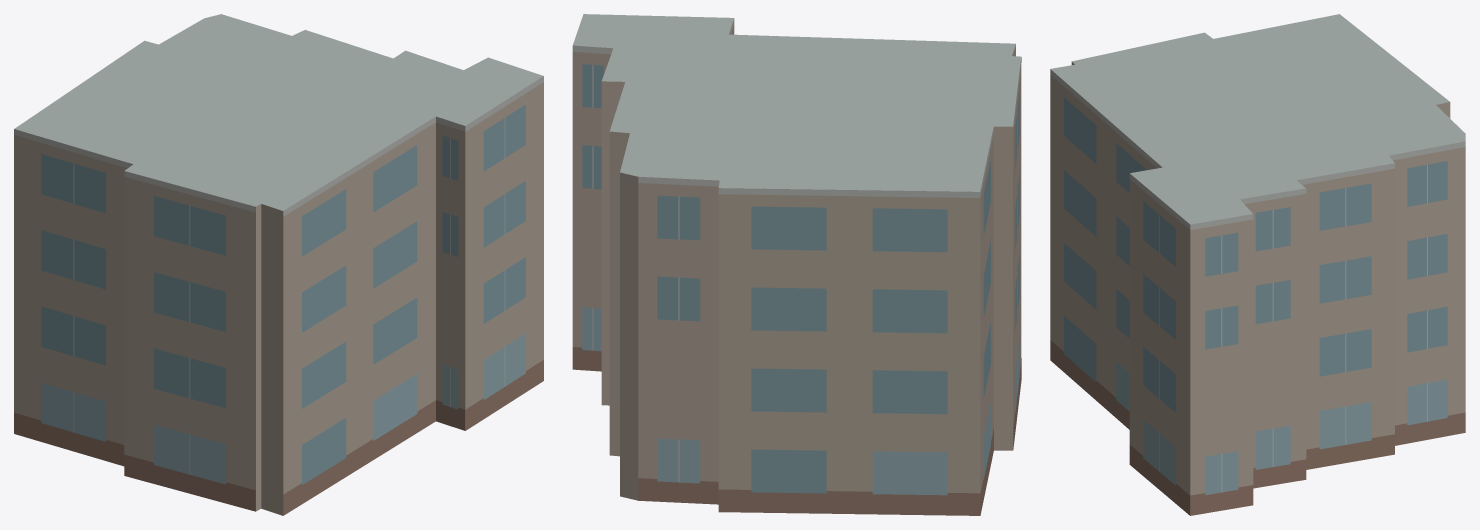
The model's file is survey-upis-32892656.glb.
The picture shows the model from 3 angles, left to right: view 1: azimuth 30°, elevation 25°; view 2: azimuth 150°, elevation 25°; view 3: azimuth 270°, elevation 25°; orthographic projection. The views are drawn at different scales.
Visible parts, largest first — view 1: survey-upis-32892656.tmp; view 2: survey-upis-32892656.tmp; view 3: survey-upis-32892656.tmp.
Boxes of the visible parts, x1,y1,x2,y2 form: survey-upis-32892656.tmp: (14,14,543,515); survey-upis-32892656.tmp: (572,14,1021,515); survey-upis-32892656.tmp: (1050,14,1465,515).
Size of the model in its own units: 19.85 by 12.8 by 16.55.
